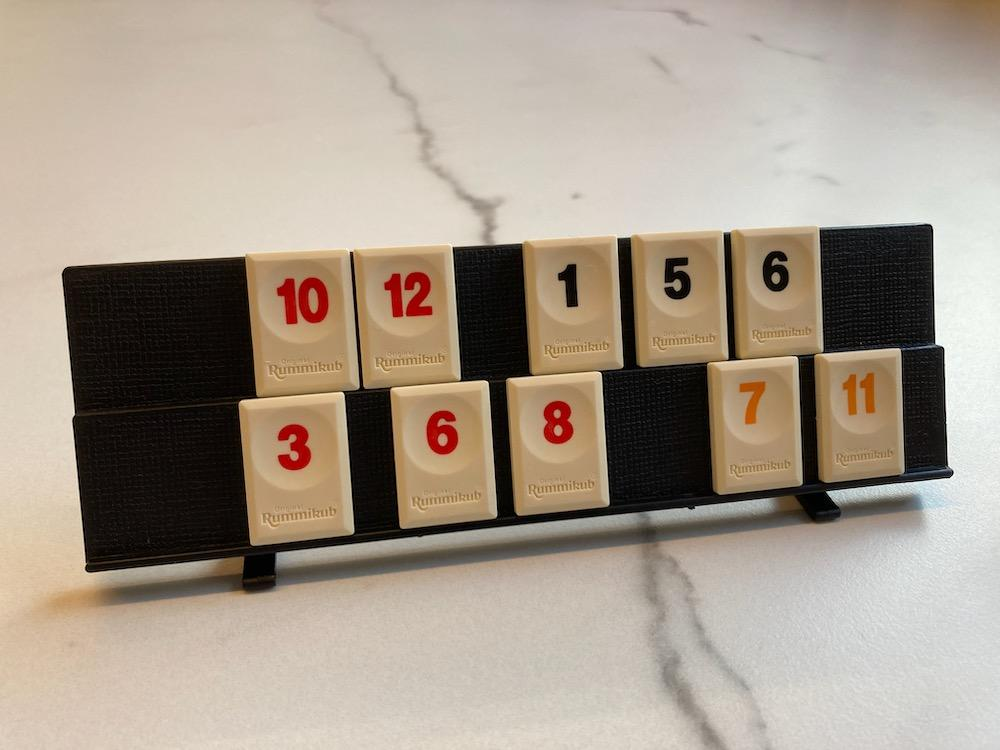black_1: (524, 236, 623, 374)
black_5: (631, 230, 729, 366)
black_6: (730, 228, 824, 359)
orange_11: (814, 348, 903, 482)
orange_7: (707, 357, 803, 494)
red_10: (246, 250, 358, 396)
red_12: (354, 244, 461, 389)
red_3: (238, 394, 353, 545)
red_6: (392, 381, 495, 529)
red_8: (508, 371, 608, 516)
